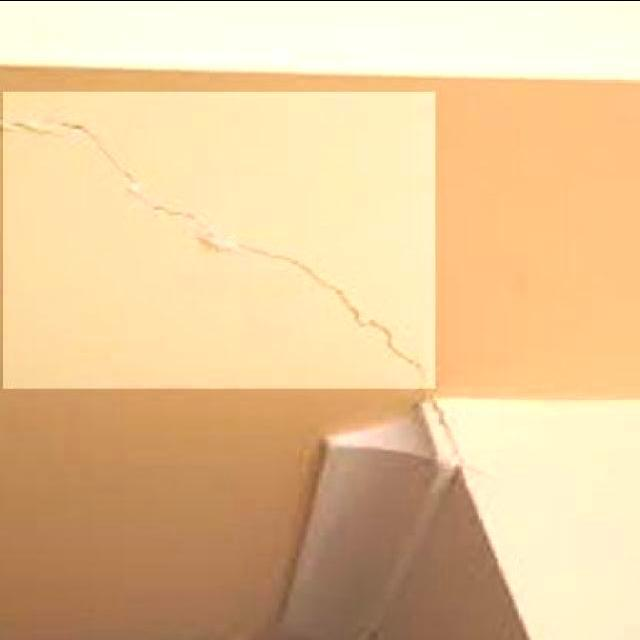SurfaceCrack: (0, 104, 416, 358)
